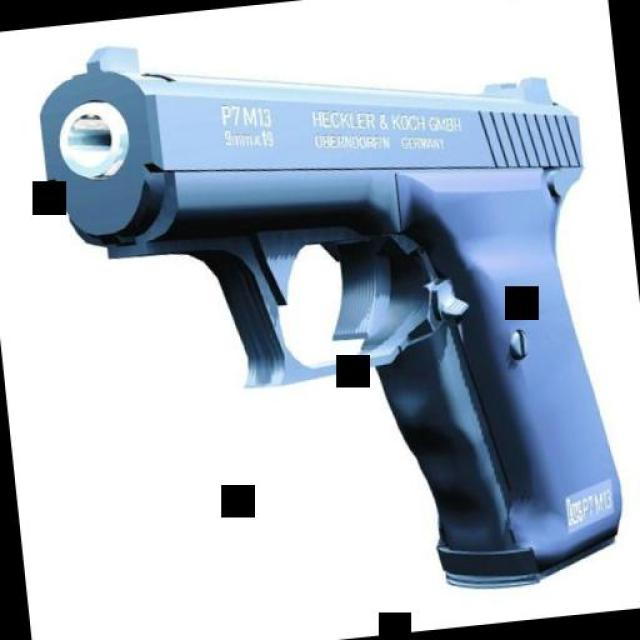gun: (20, 0, 626, 630)
